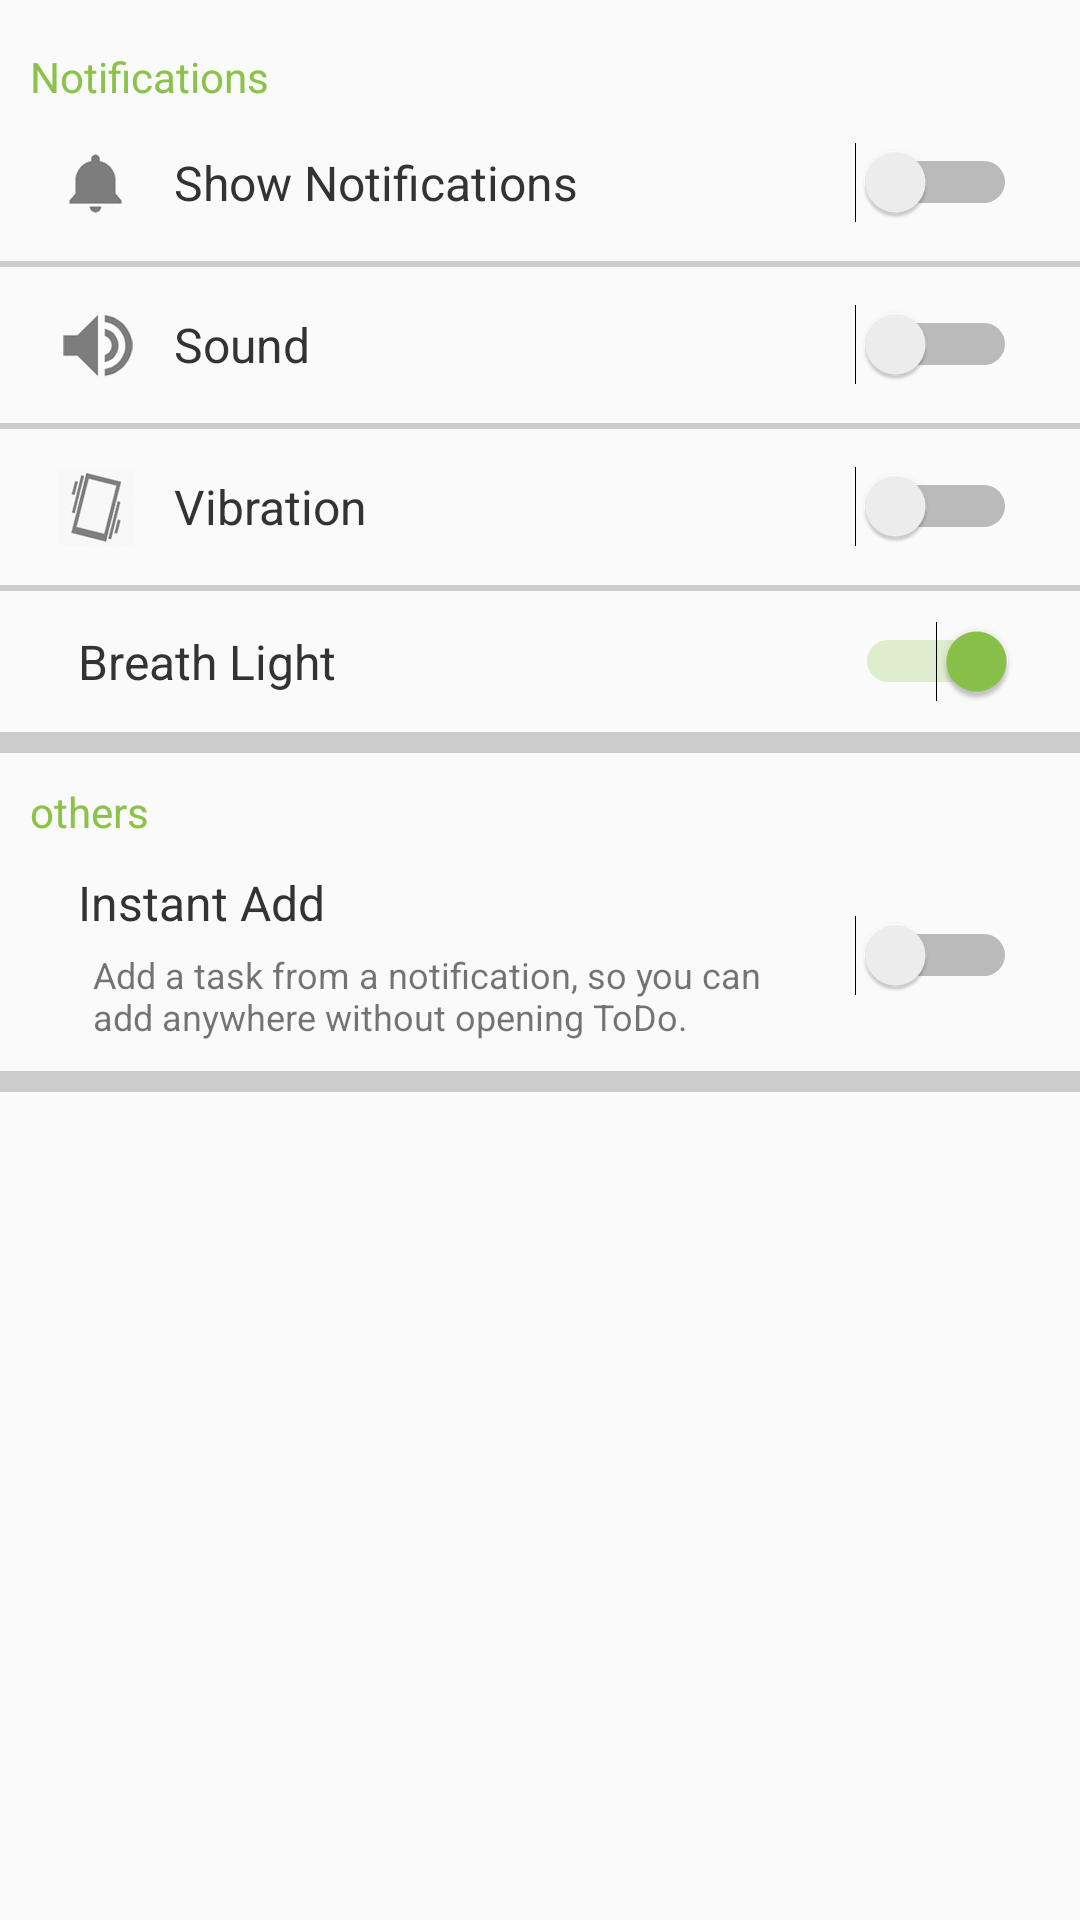

Point at icon controls on the screen. Image size 1080 × 1920, points as (x=x, y=y).
vibrate: (x=96, y=507)
volume: (x=98, y=345)
